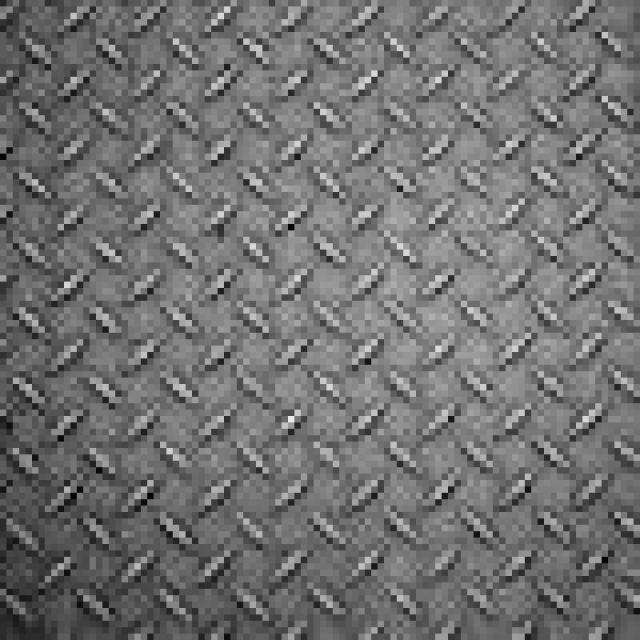Dry: (0, 32, 640, 640)
